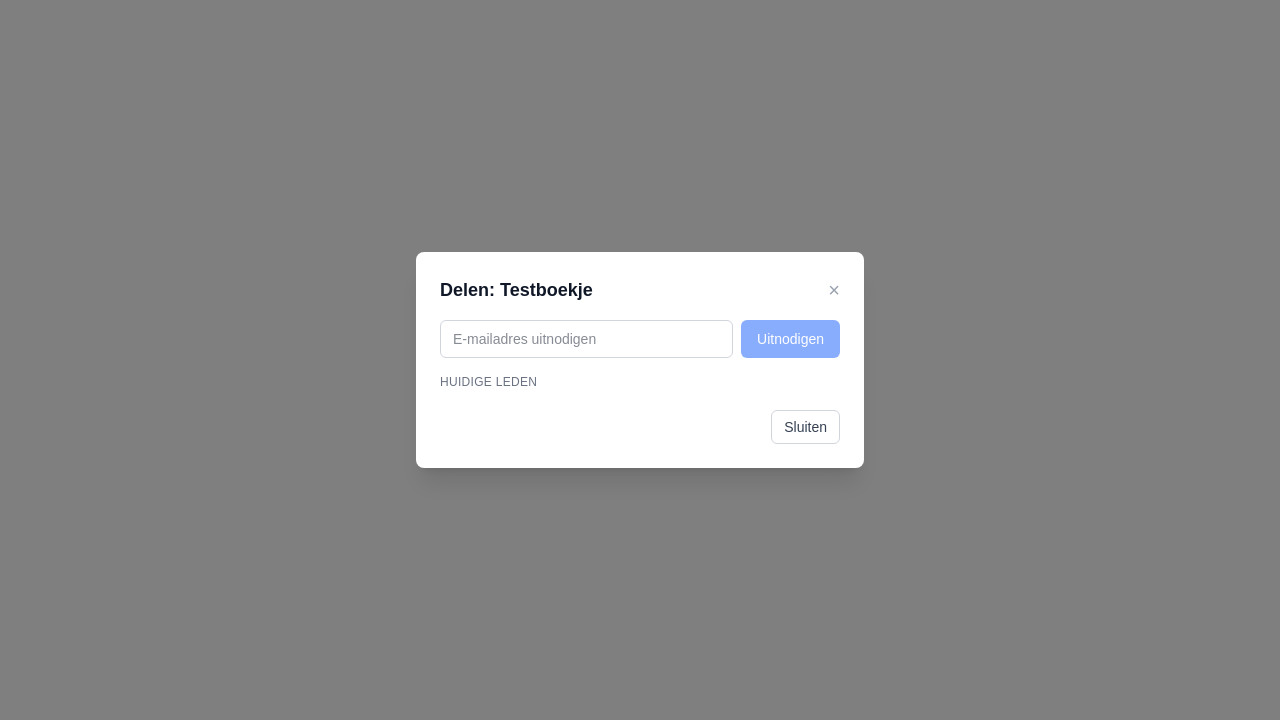
Test: ShareModal › invite flow › shows an error when the user is already a member
In the field with placeholder "E-mailadres uitnodigen": x=587, y=339 [440,320,733,358], type "member@example.com"
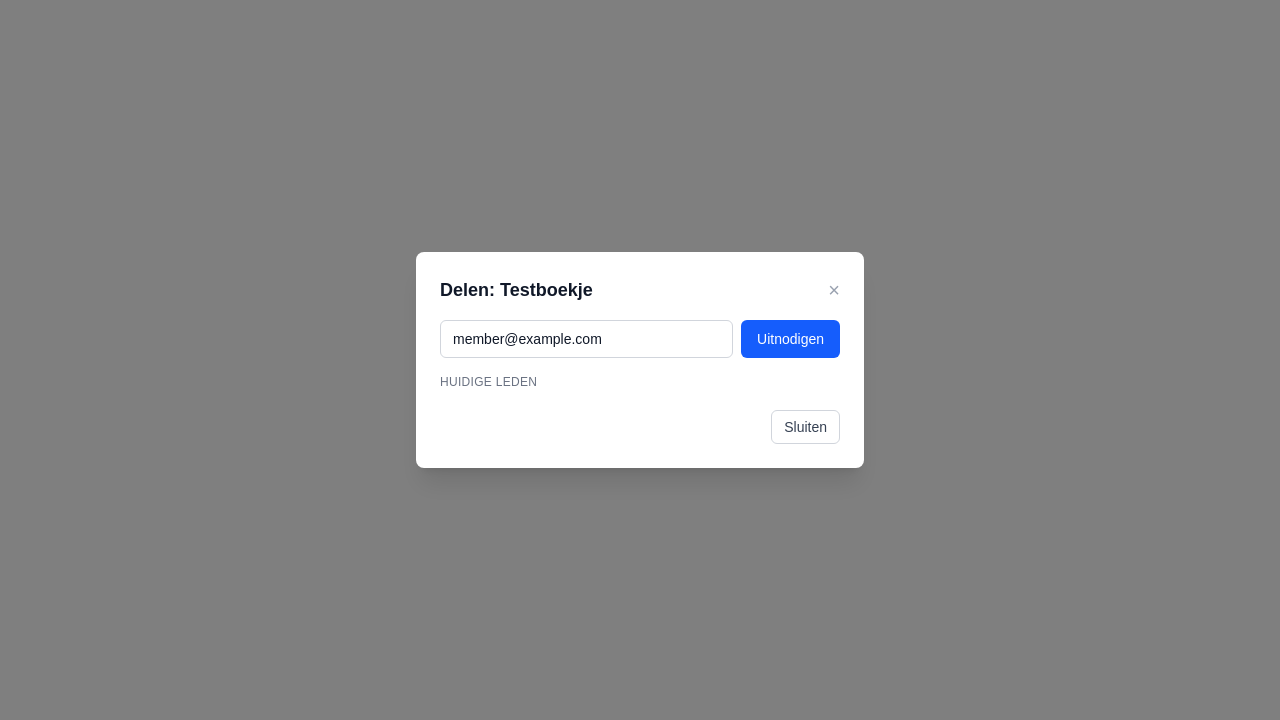
Click the button "Uitnodigen": x=791, y=339 [741,320,840,358]
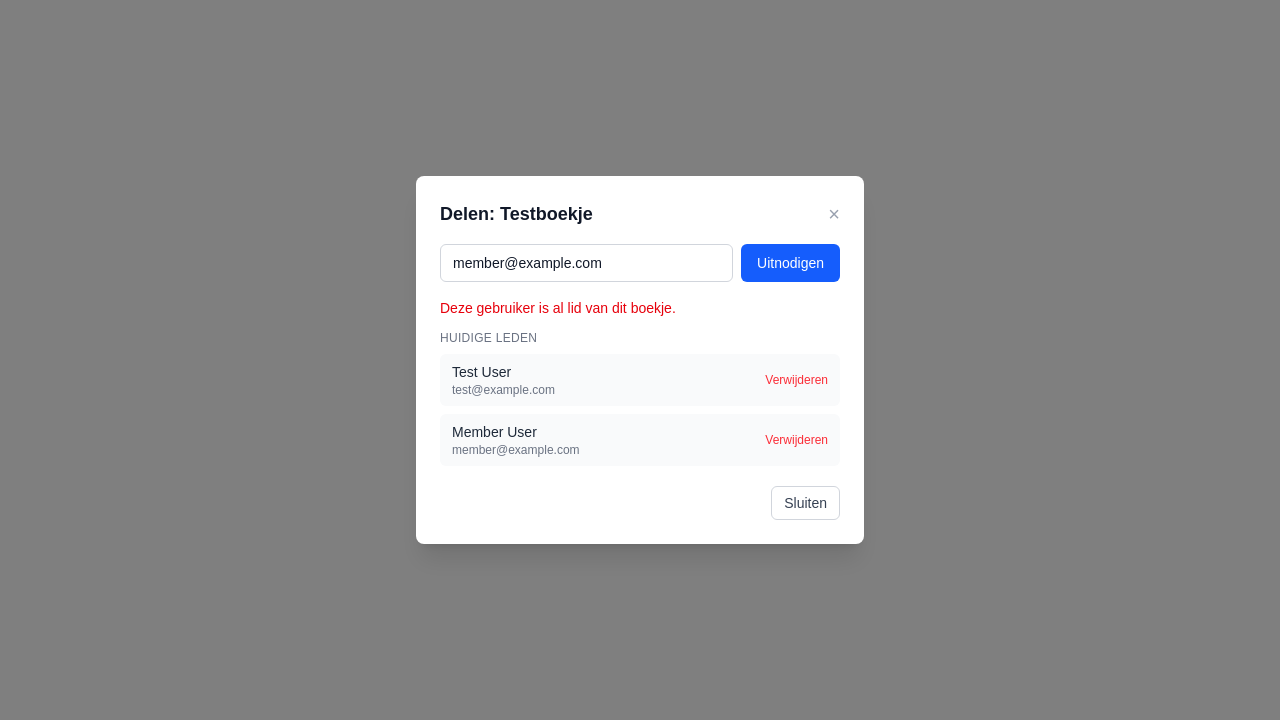
Expected: the text "Deze gebruiker is al lid van dit boekje." is shown, [440,300,676,316]
